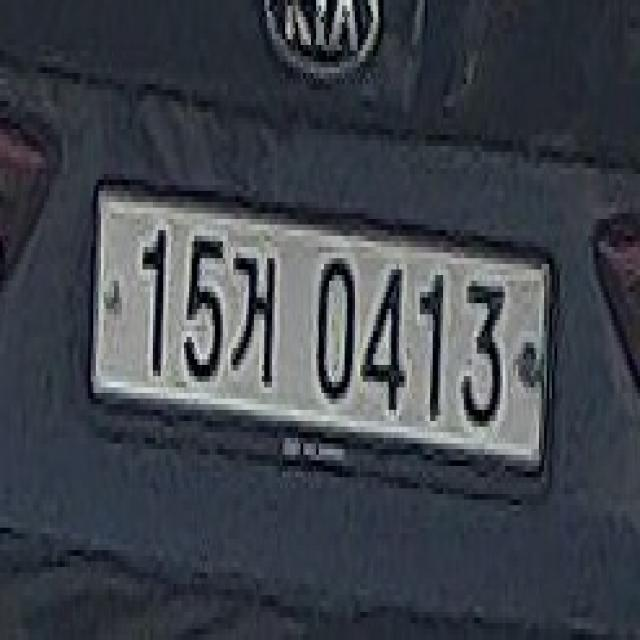0: (311, 236, 360, 427)
1: (135, 208, 176, 393), (414, 264, 451, 438)
3: (454, 258, 511, 444)
4: (360, 258, 412, 438)
5: (181, 224, 228, 398)
geo: (228, 242, 282, 404)
license_plate: (86, 163, 560, 511)
